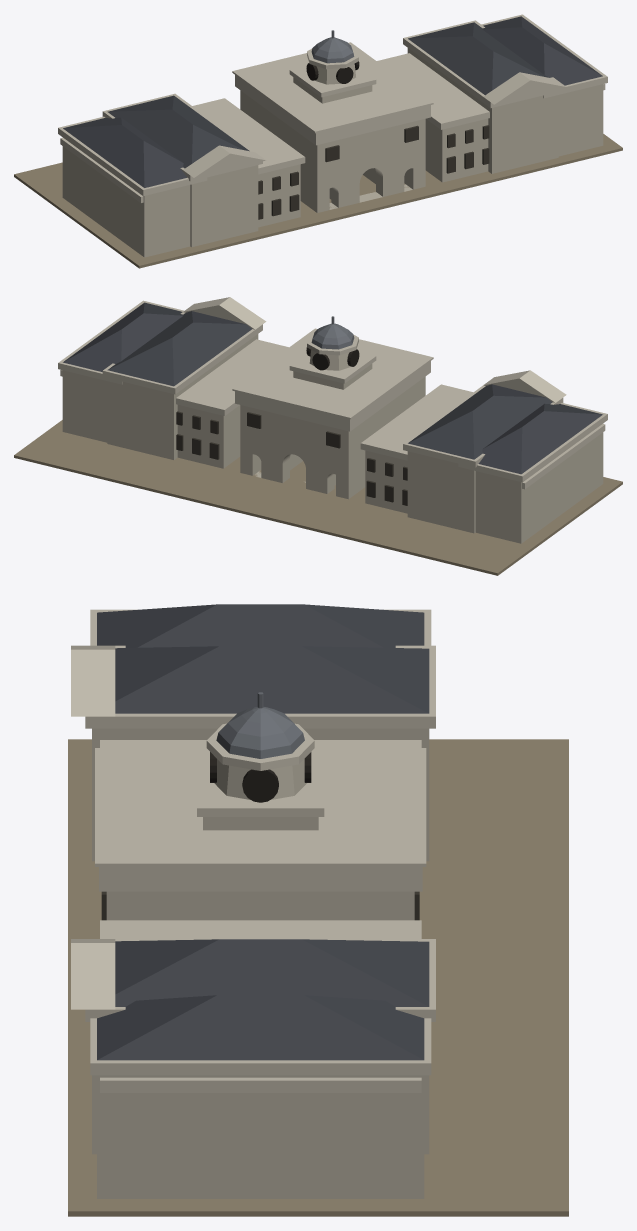
File: horse_guards.glb
The picture shows the model from 3 angles, top to bottom: view 1: azimuth 30°, elevation 25°; view 2: azimuth 150°, elevation 25°; view 3: azimuth 270°, elevation 25°; orthographic projection. The views are drawn at different scales.
Parts seen in each view (by area): view 1: horse_guards; view 2: horse_guards; view 3: horse_guards.
Boxes of the visible parts, bbox=[...] form: horse_guards: bbox=[14, 14, 622, 268]; horse_guards: bbox=[14, 297, 622, 575]; horse_guards: bbox=[68, 604, 568, 1216].
Size of the model in its own units: 116 by 32.9 by 52.
